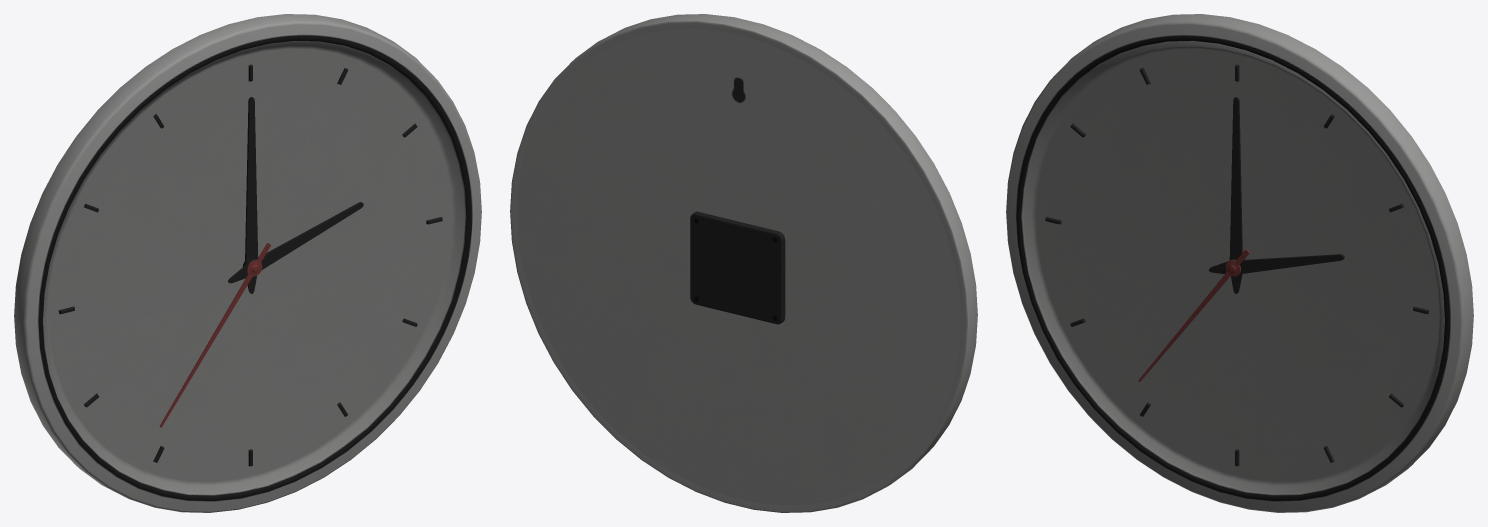
Rendered from cute_cartoon_wall_clock_3d_model.glb.
3 views of the same model, side by side, from view 1: azimuth 30°, elevation 25°; view 2: azimuth 150°, elevation 25°; view 3: azimuth 330°, elevation 25° (orthographic).
Parts seen in each view (by area): view 1: node_id44_1; view 2: node_id44_1; view 3: node_id44_1.
Part boxes in pixels (box(x1,y1,x2,y2)): node_id44_1: box(14, 14, 481, 512); node_id44_1: box(510, 14, 977, 512); node_id44_1: box(1006, 14, 1473, 512).
Size of the model in its own units: 0.5373 by 0.5362 by 0.0323.
1 material, 1 textured.
